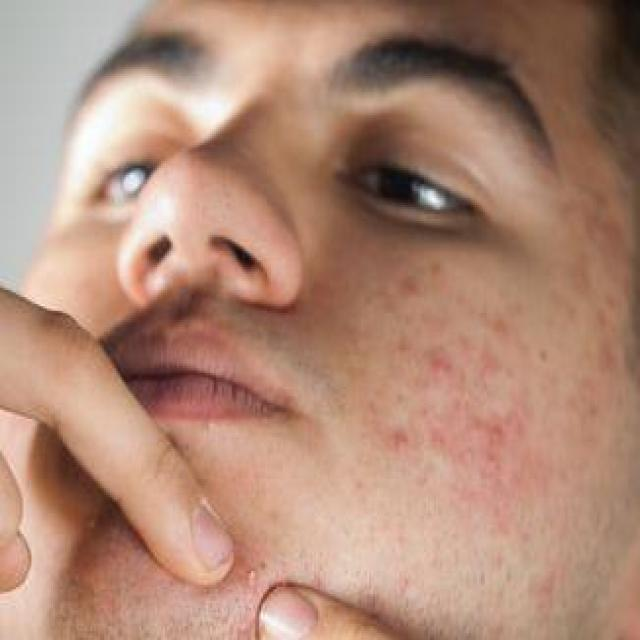blackheads: (397, 267, 420, 295), (244, 562, 261, 589), (391, 426, 406, 453)
